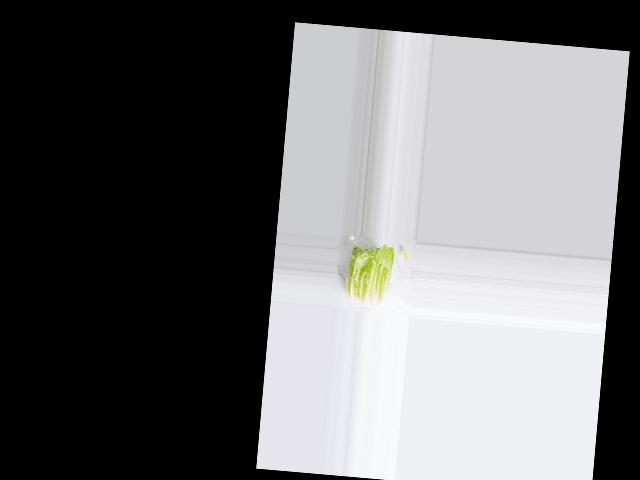lettuce: (342, 240, 397, 306)
